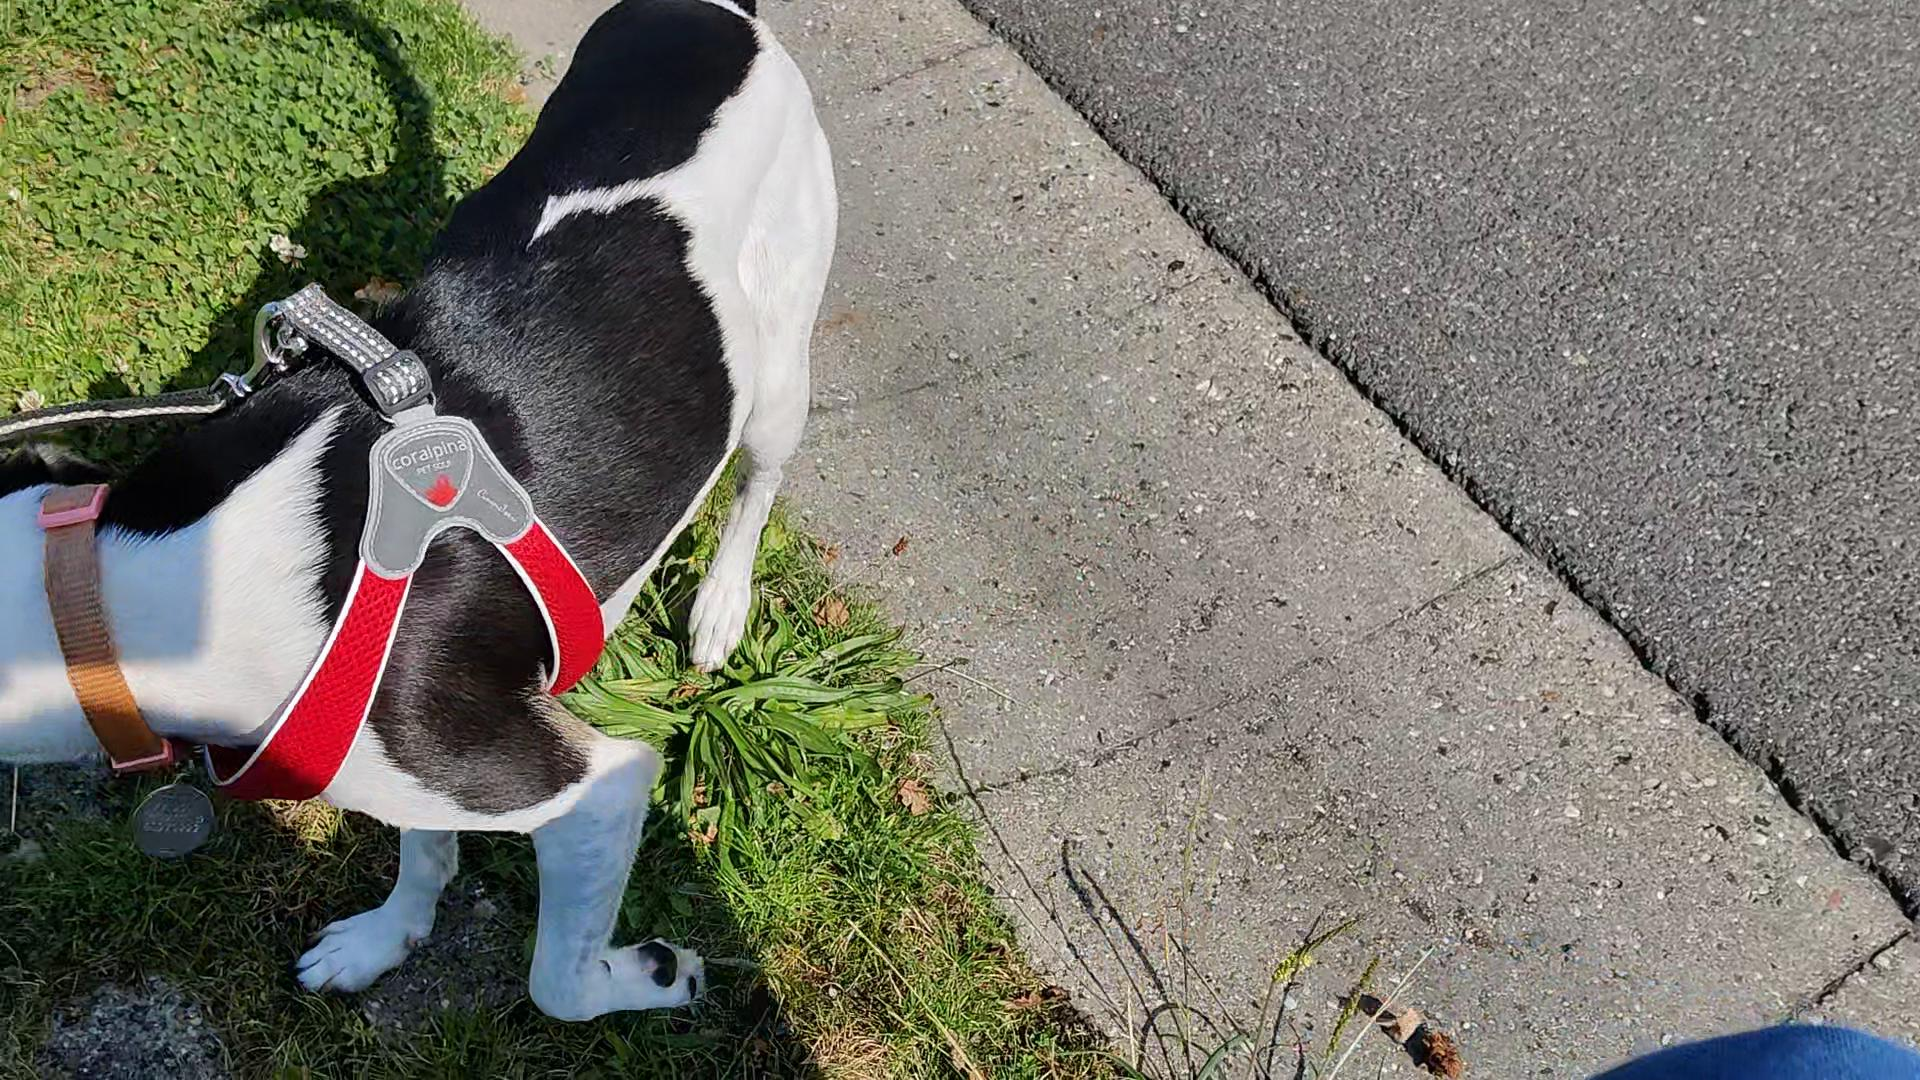Dog: (0, 0, 851, 1023)
